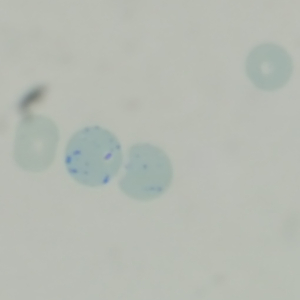aggregate reticulocyte: (61, 124, 124, 189)
erythrocyte: (10, 114, 61, 175), (242, 41, 295, 93)
punctate reticulocyte: (116, 141, 173, 202)
